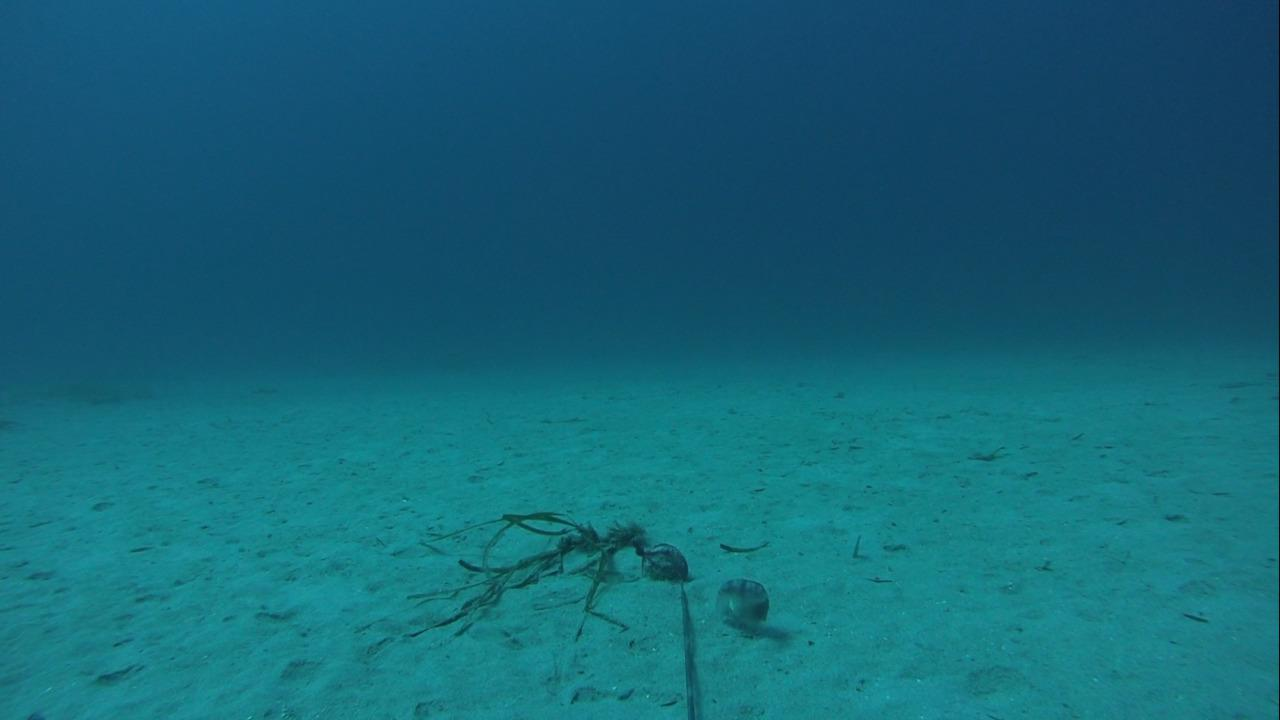raor: (704, 575, 776, 632)
